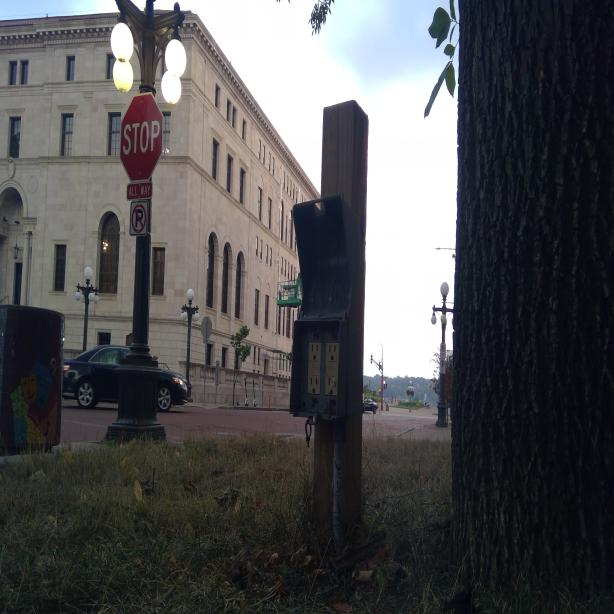typeb: (326, 343, 338, 362), (308, 376, 320, 395), (308, 343, 320, 359), (327, 376, 337, 394)
